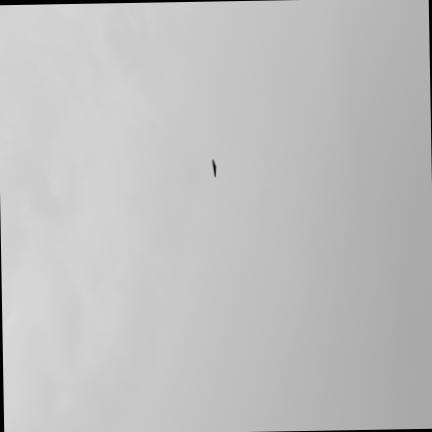Shahed: (212, 158, 216, 176)
